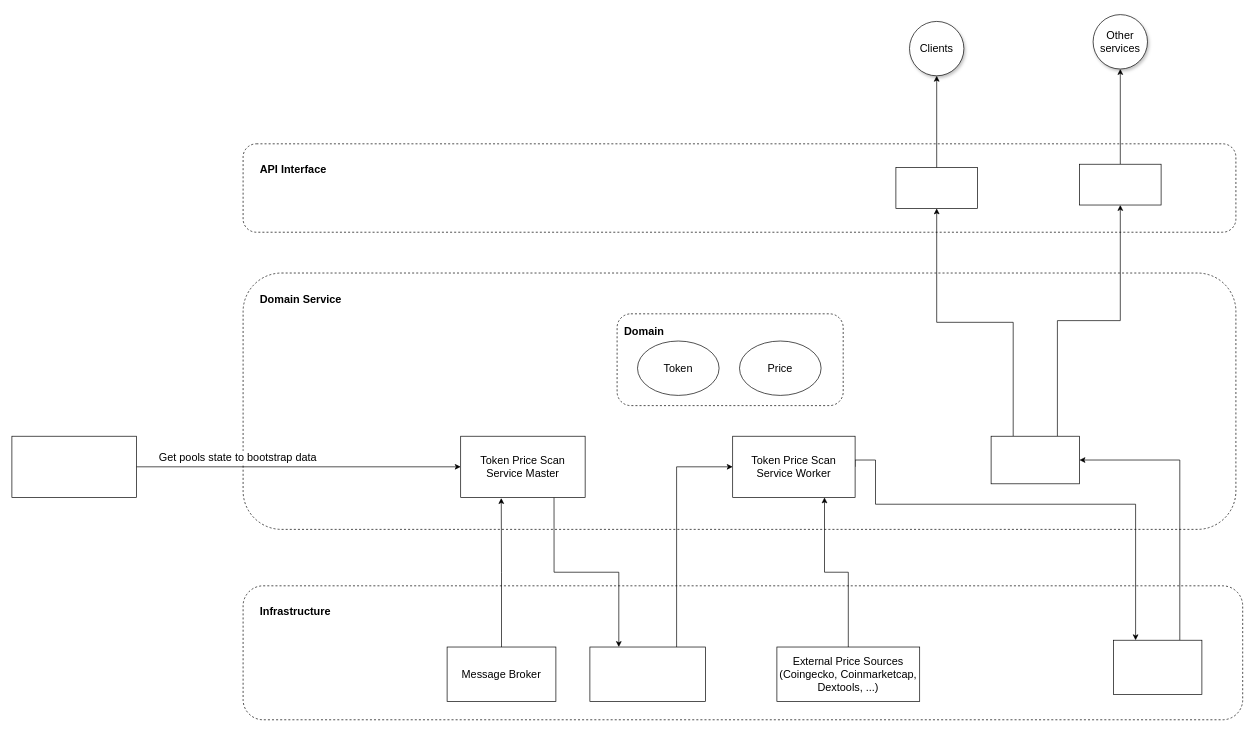
Some shapes in this 1255 by 732 pixel diagram are drawn without their labels. The centre of each missing label's shape, as x and y in pixels:
Datastore (Redis): the point at 1157,667
gRPC: the point at 1120,184
gRPC Gateway: the point at 936,187
Pool Service: the point at 73,466
Tasks queue: the point at 647,673
Token Price API Service: the point at 1035,460
